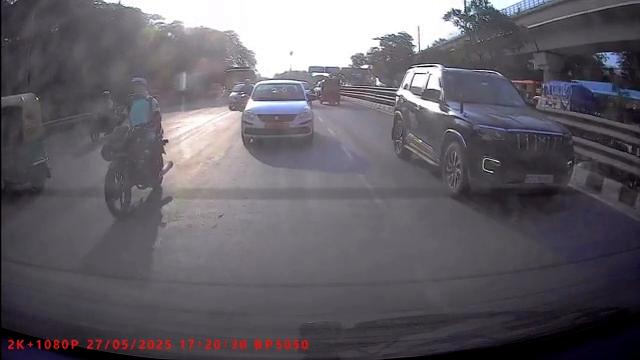motorcycle_without_helmet: (98, 73, 171, 220)
